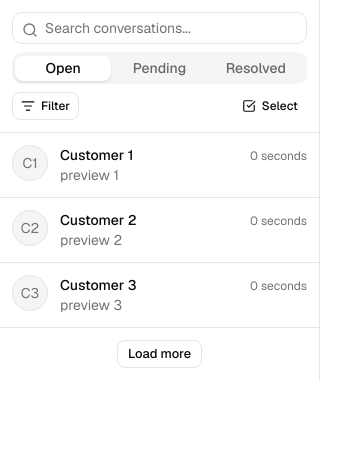
Scenario: ConversationList › loads the first page and then the rest with 'Load more'
Expected: the text "Customer 1" is shown, [60,145,133,165]
Expected: the text "Customer 4" is not shown
Click the button "Load more" at coordinates (160, 354), box [117,340,202,368]
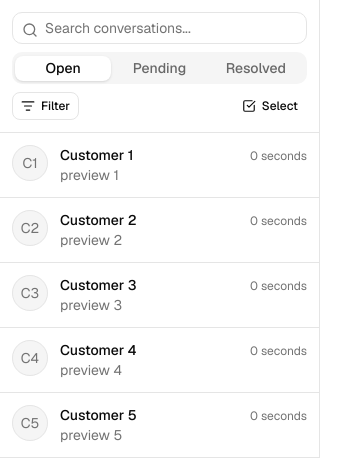
Expected: the text "Customer 5" is shown, [60,405,137,425]
Expected: the button "Load more" is gone
